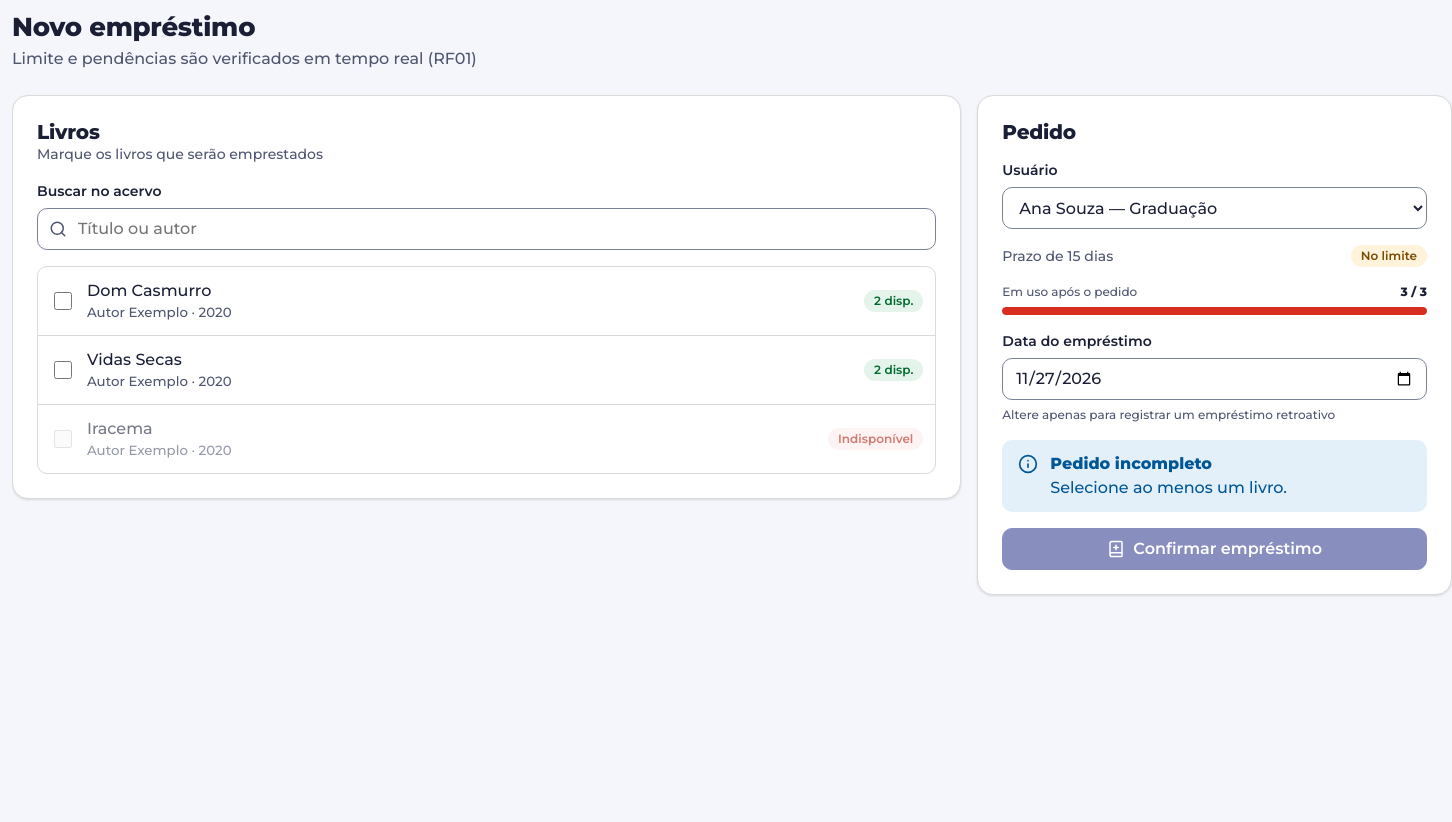
Test: UI — Novo empréstimo (RF01 em tempo real) › UI12 — usuário no limite é recusado antes de chegar à API
Expected: the text "Dom Casmurro" is shown, [87,281,211,300]
Click the checkbox labelled "Vidas Secas Autor Exemplo · 2020 2 disp.": point(63, 370) [54,361,72,379]
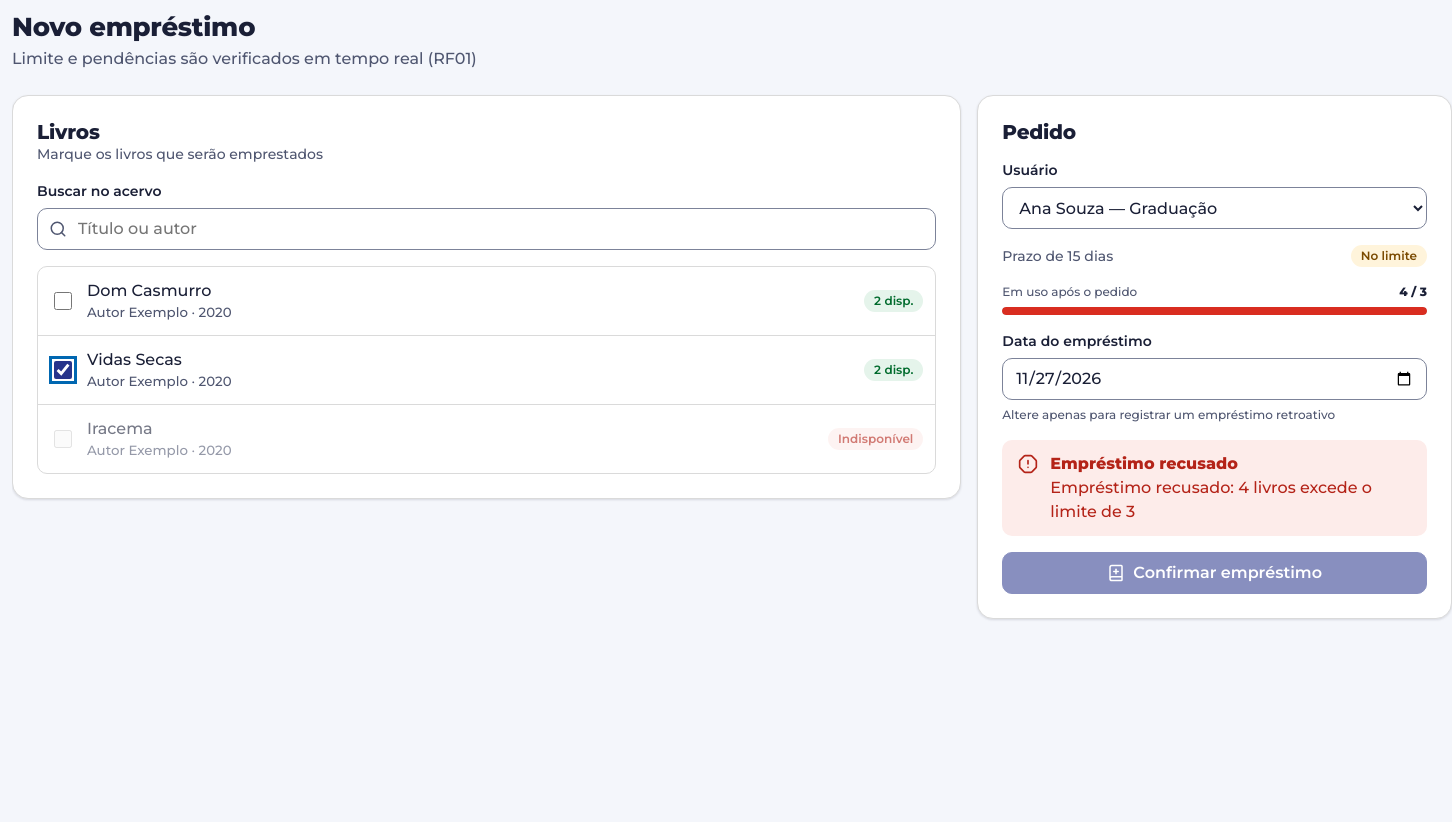
Expected: the button "Confirmar empréstimo" is disabled, [1002,552,1427,594]
Now the text "Empréstimo recusado" is shown, box [1050,454,1238,473]
Now the text "Empréstimo recusado: 4 livros excede o limite de 3" is shown, box [1050,478,1372,521]
